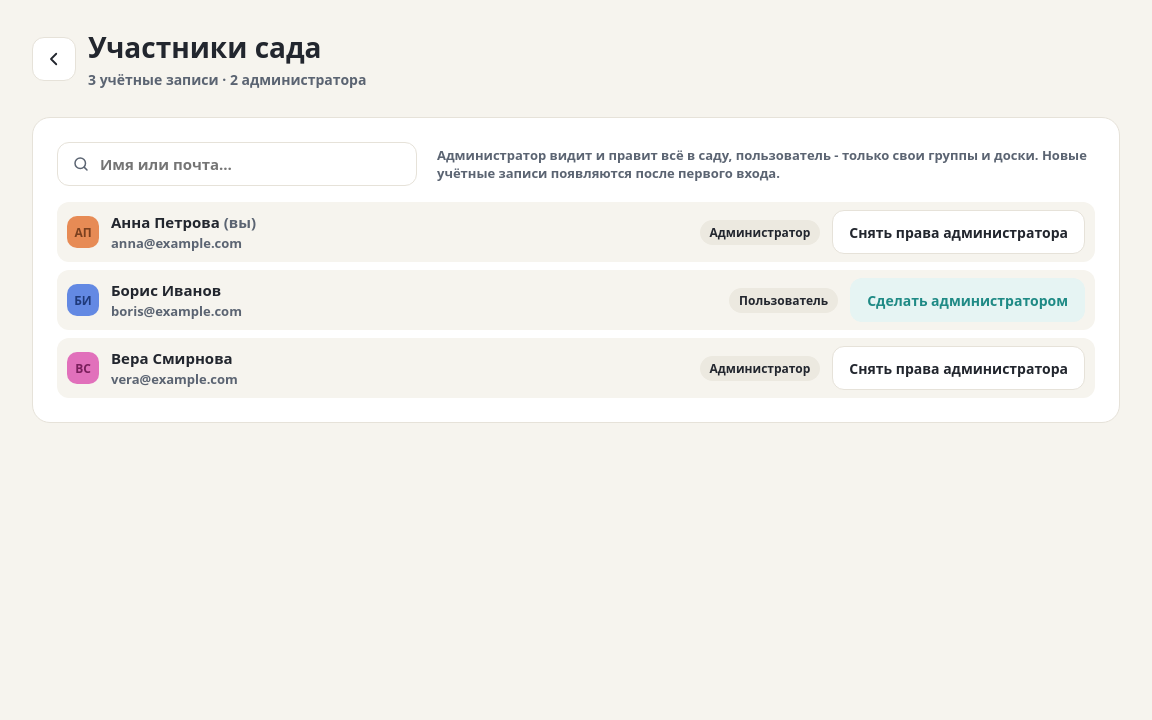
Test: PeoplePage: учётные записи сада › назначает администратора и снимает права через кнопки строки
Expected: the text "Борис Иванов" is shown, [111,280,221,300]
Step 1. Click the button "Сделать администратором" → (968, 300), box [850,278,1085,322]
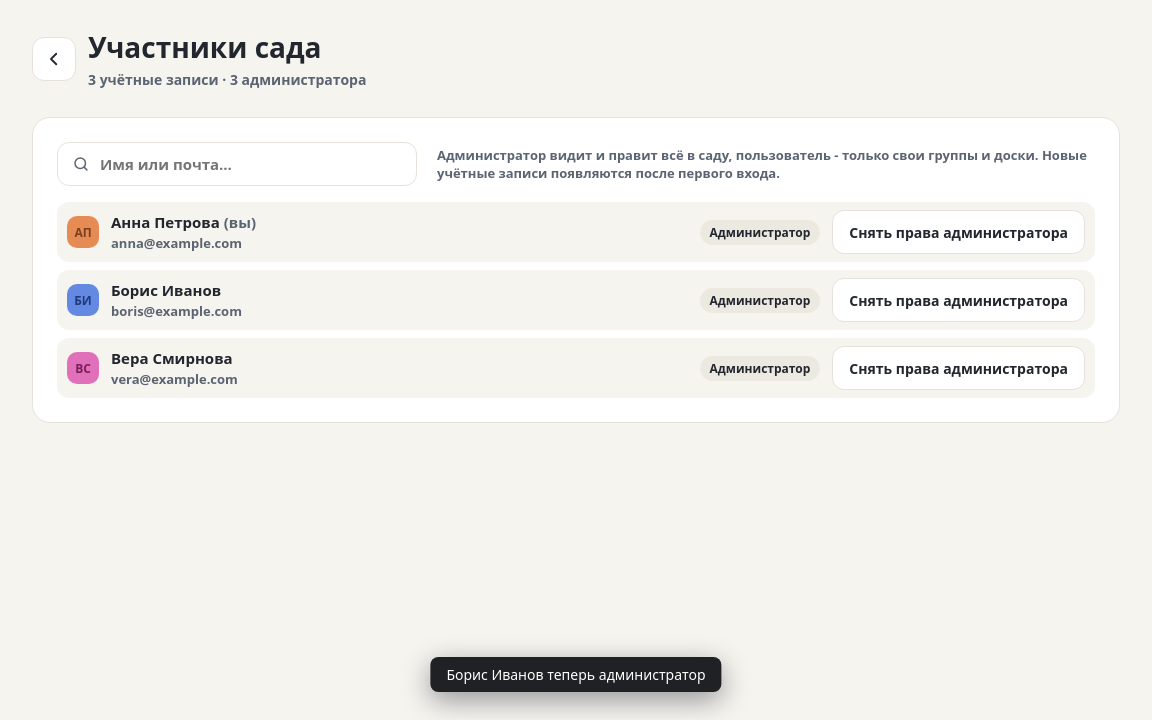
Expected: the text "Администратор" in the row of "БИ" is shown, [710,292,810,308]
Step 2. Click the button "Снять права администратора" in the row of "Вера Смирнова" → (959, 368), box [832,346,1085,390]
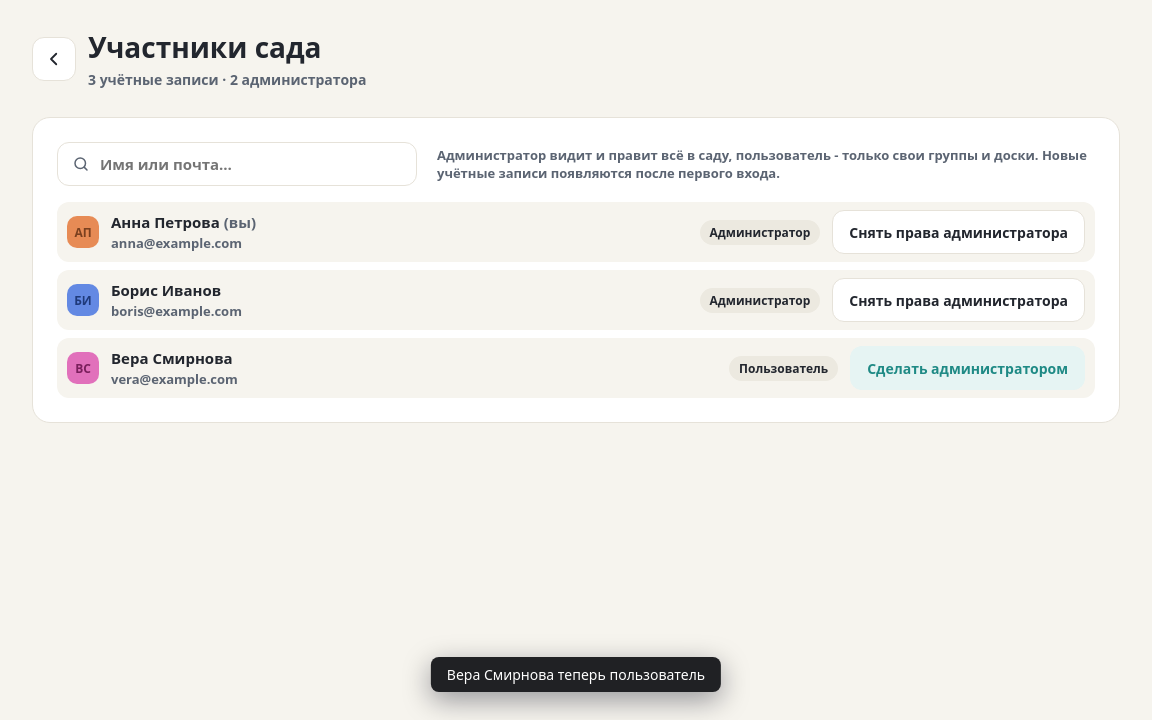
Expected: the text "Пользователь" is shown, [729,356,838,380]
